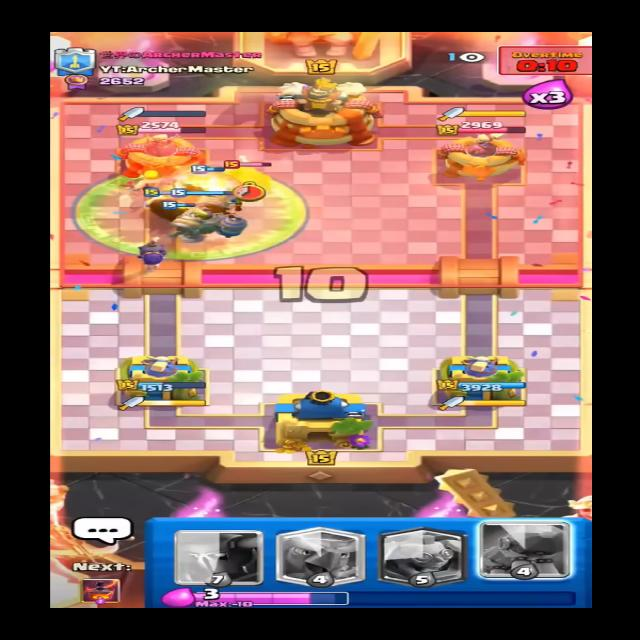knight: (217, 158, 284, 196)
